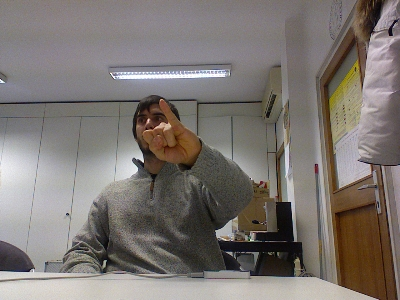小指: (141, 97, 200, 165)
